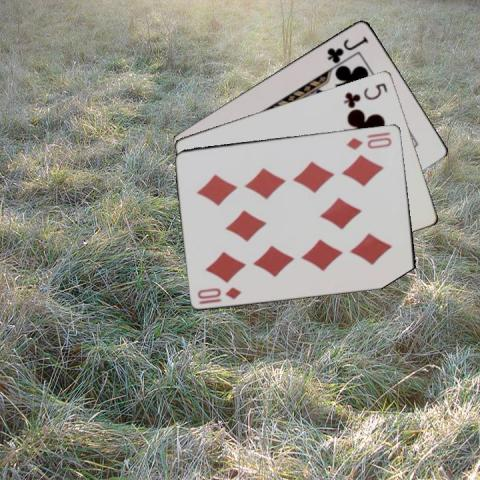10d: (194, 283, 243, 301), (344, 134, 393, 151)
5c: (341, 79, 389, 108)
Jc: (324, 33, 369, 63)
